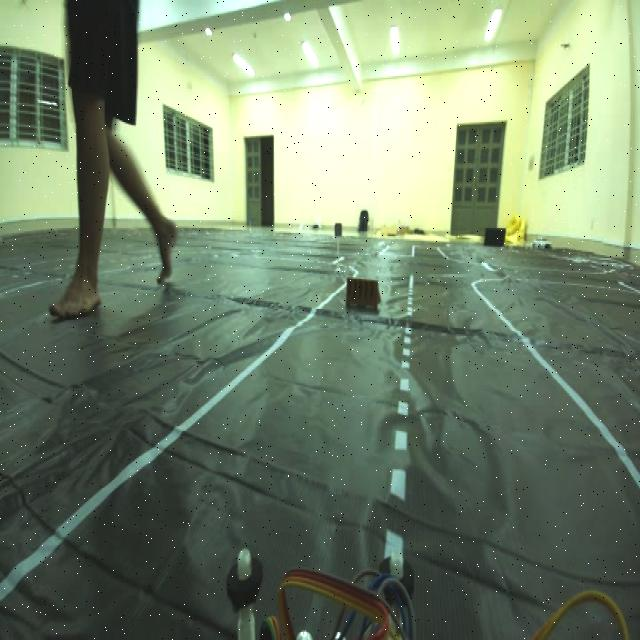roadblock: (341, 263, 384, 320)
